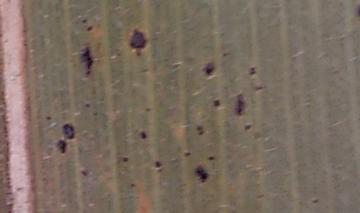tarspot: (129, 27, 147, 58), (79, 44, 94, 78), (234, 90, 247, 120), (193, 163, 209, 185), (61, 122, 78, 140), (201, 61, 215, 81), (55, 138, 69, 157), (152, 159, 166, 178), (193, 122, 207, 138), (211, 97, 223, 112), (127, 179, 140, 192), (247, 63, 257, 79), (77, 167, 90, 179), (309, 194, 321, 207), (137, 128, 148, 142), (119, 154, 131, 165), (82, 100, 92, 111), (243, 122, 252, 134), (206, 152, 216, 162), (44, 113, 53, 124), (79, 16, 90, 25), (85, 25, 95, 34), (144, 105, 152, 116), (182, 150, 191, 159)
